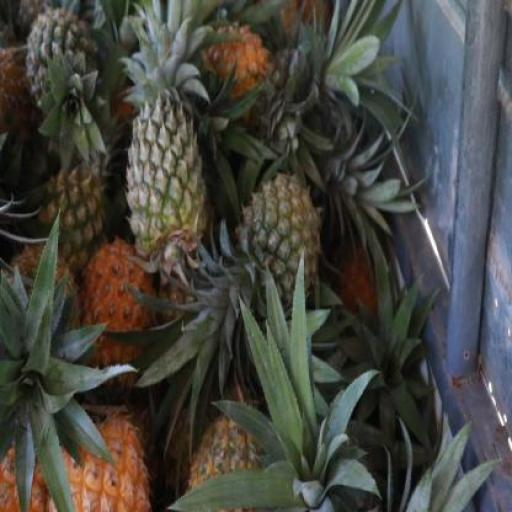Pineapple - v8 v1: (77, 235, 151, 384), (45, 410, 151, 512), (200, 15, 278, 98)
